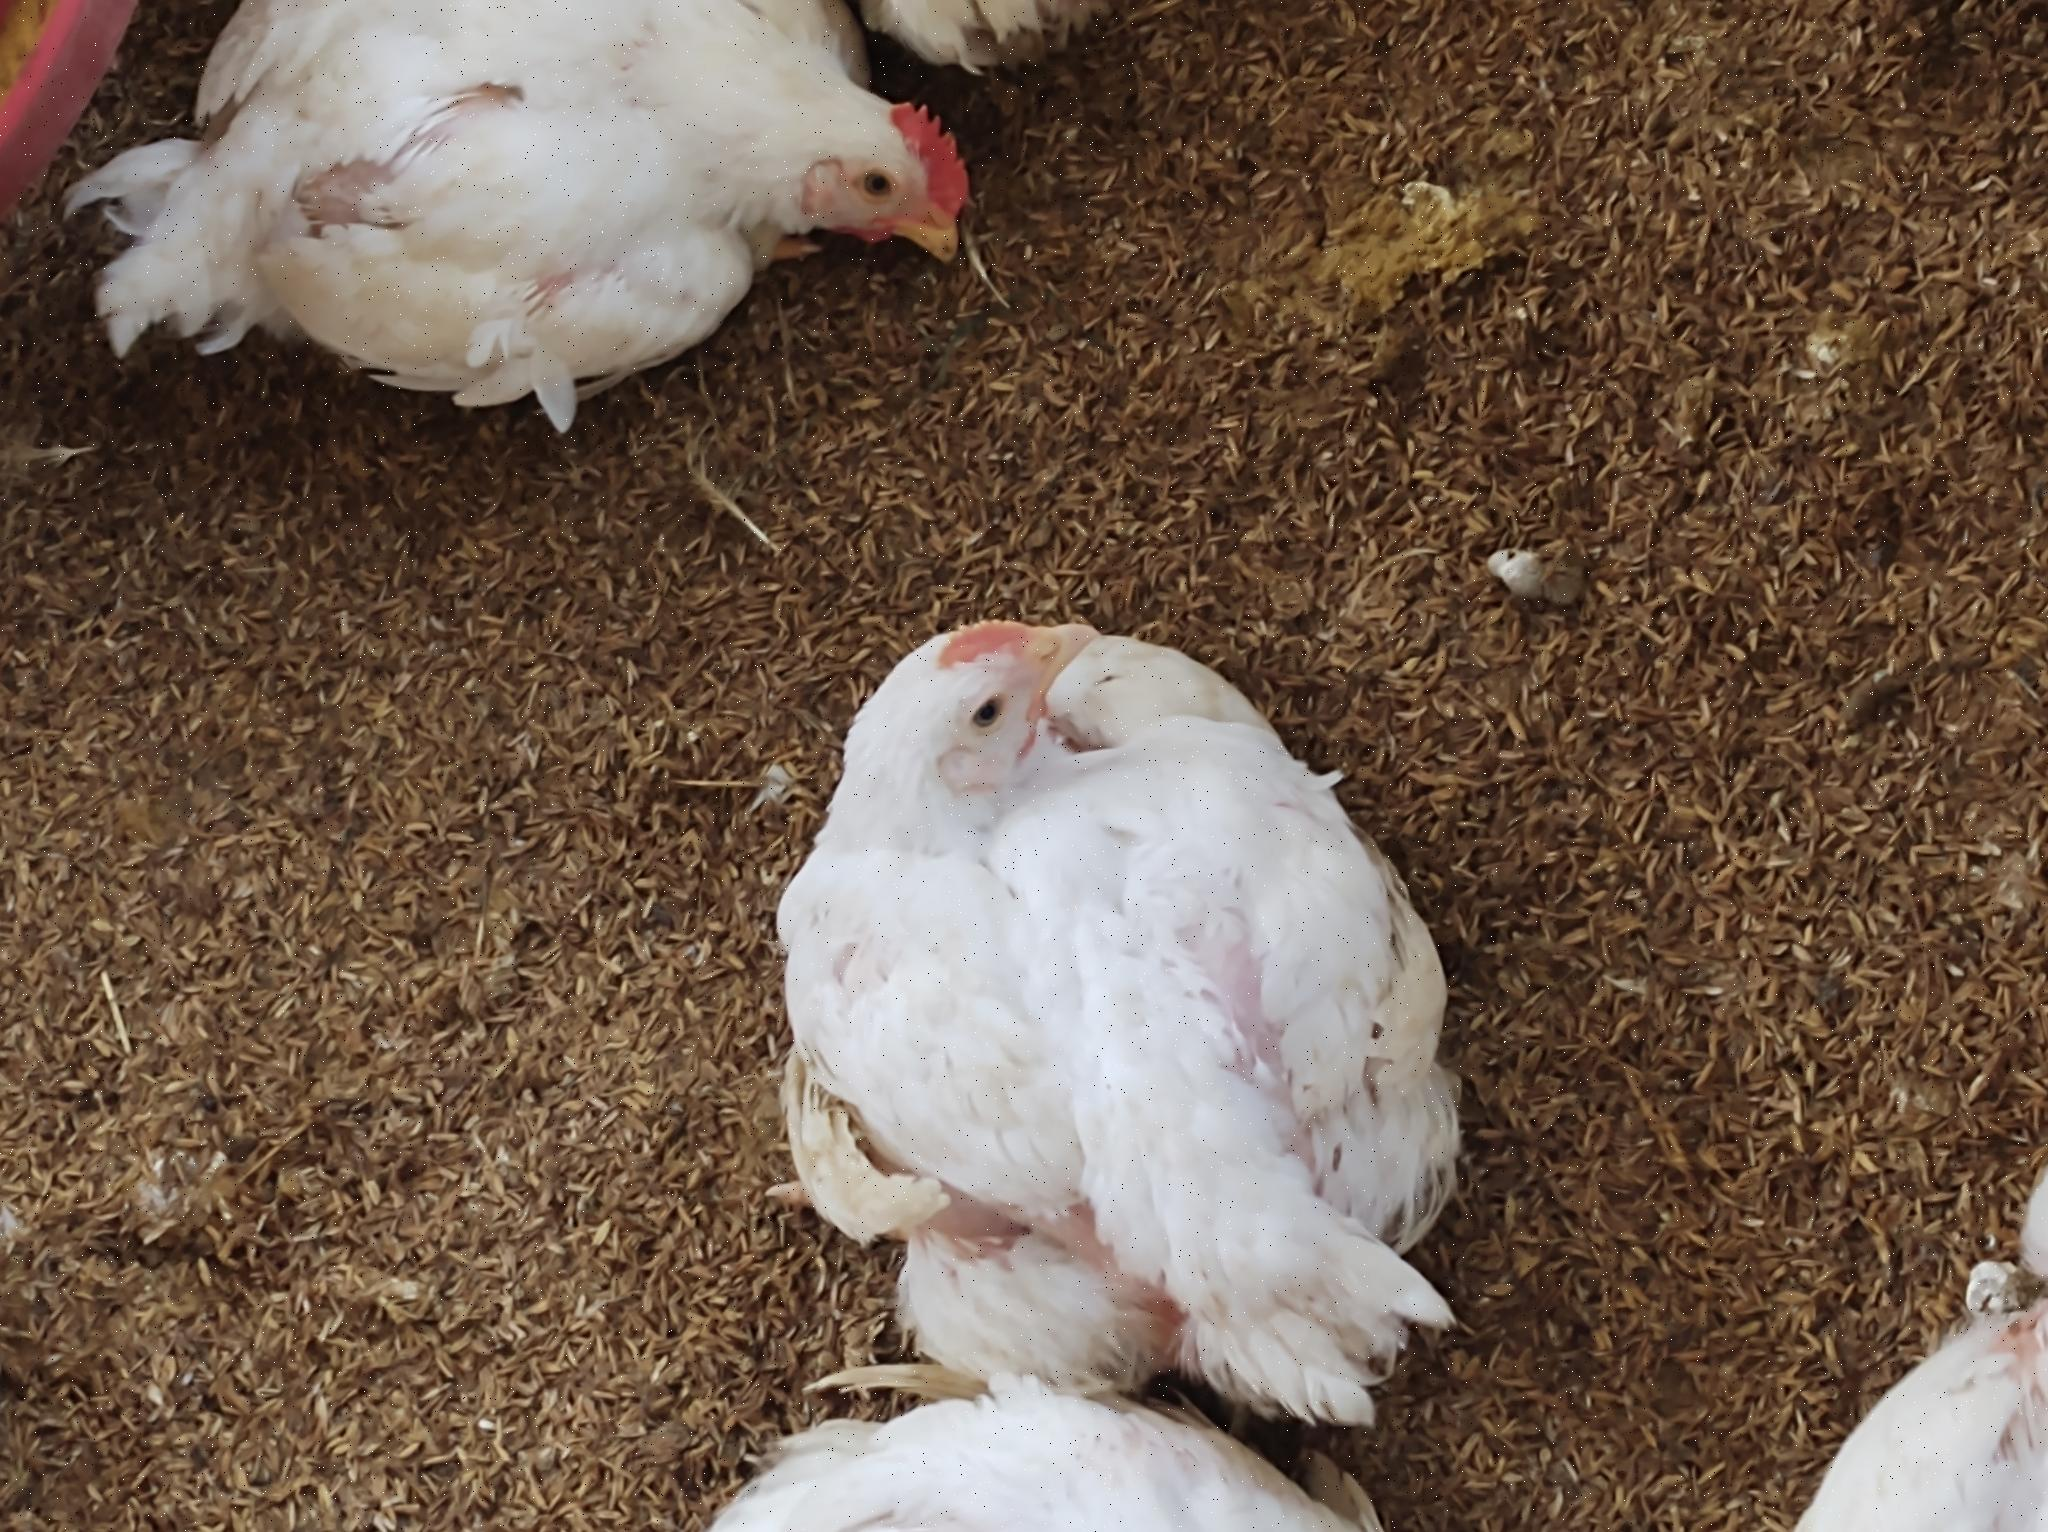Pollos: (151, 729, 923, 1509), (1149, 50, 1533, 966)
